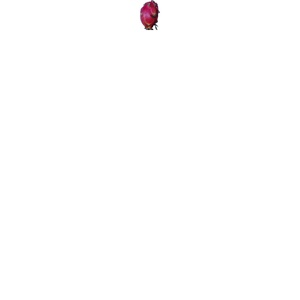pitaia: (141, 1, 160, 31)
